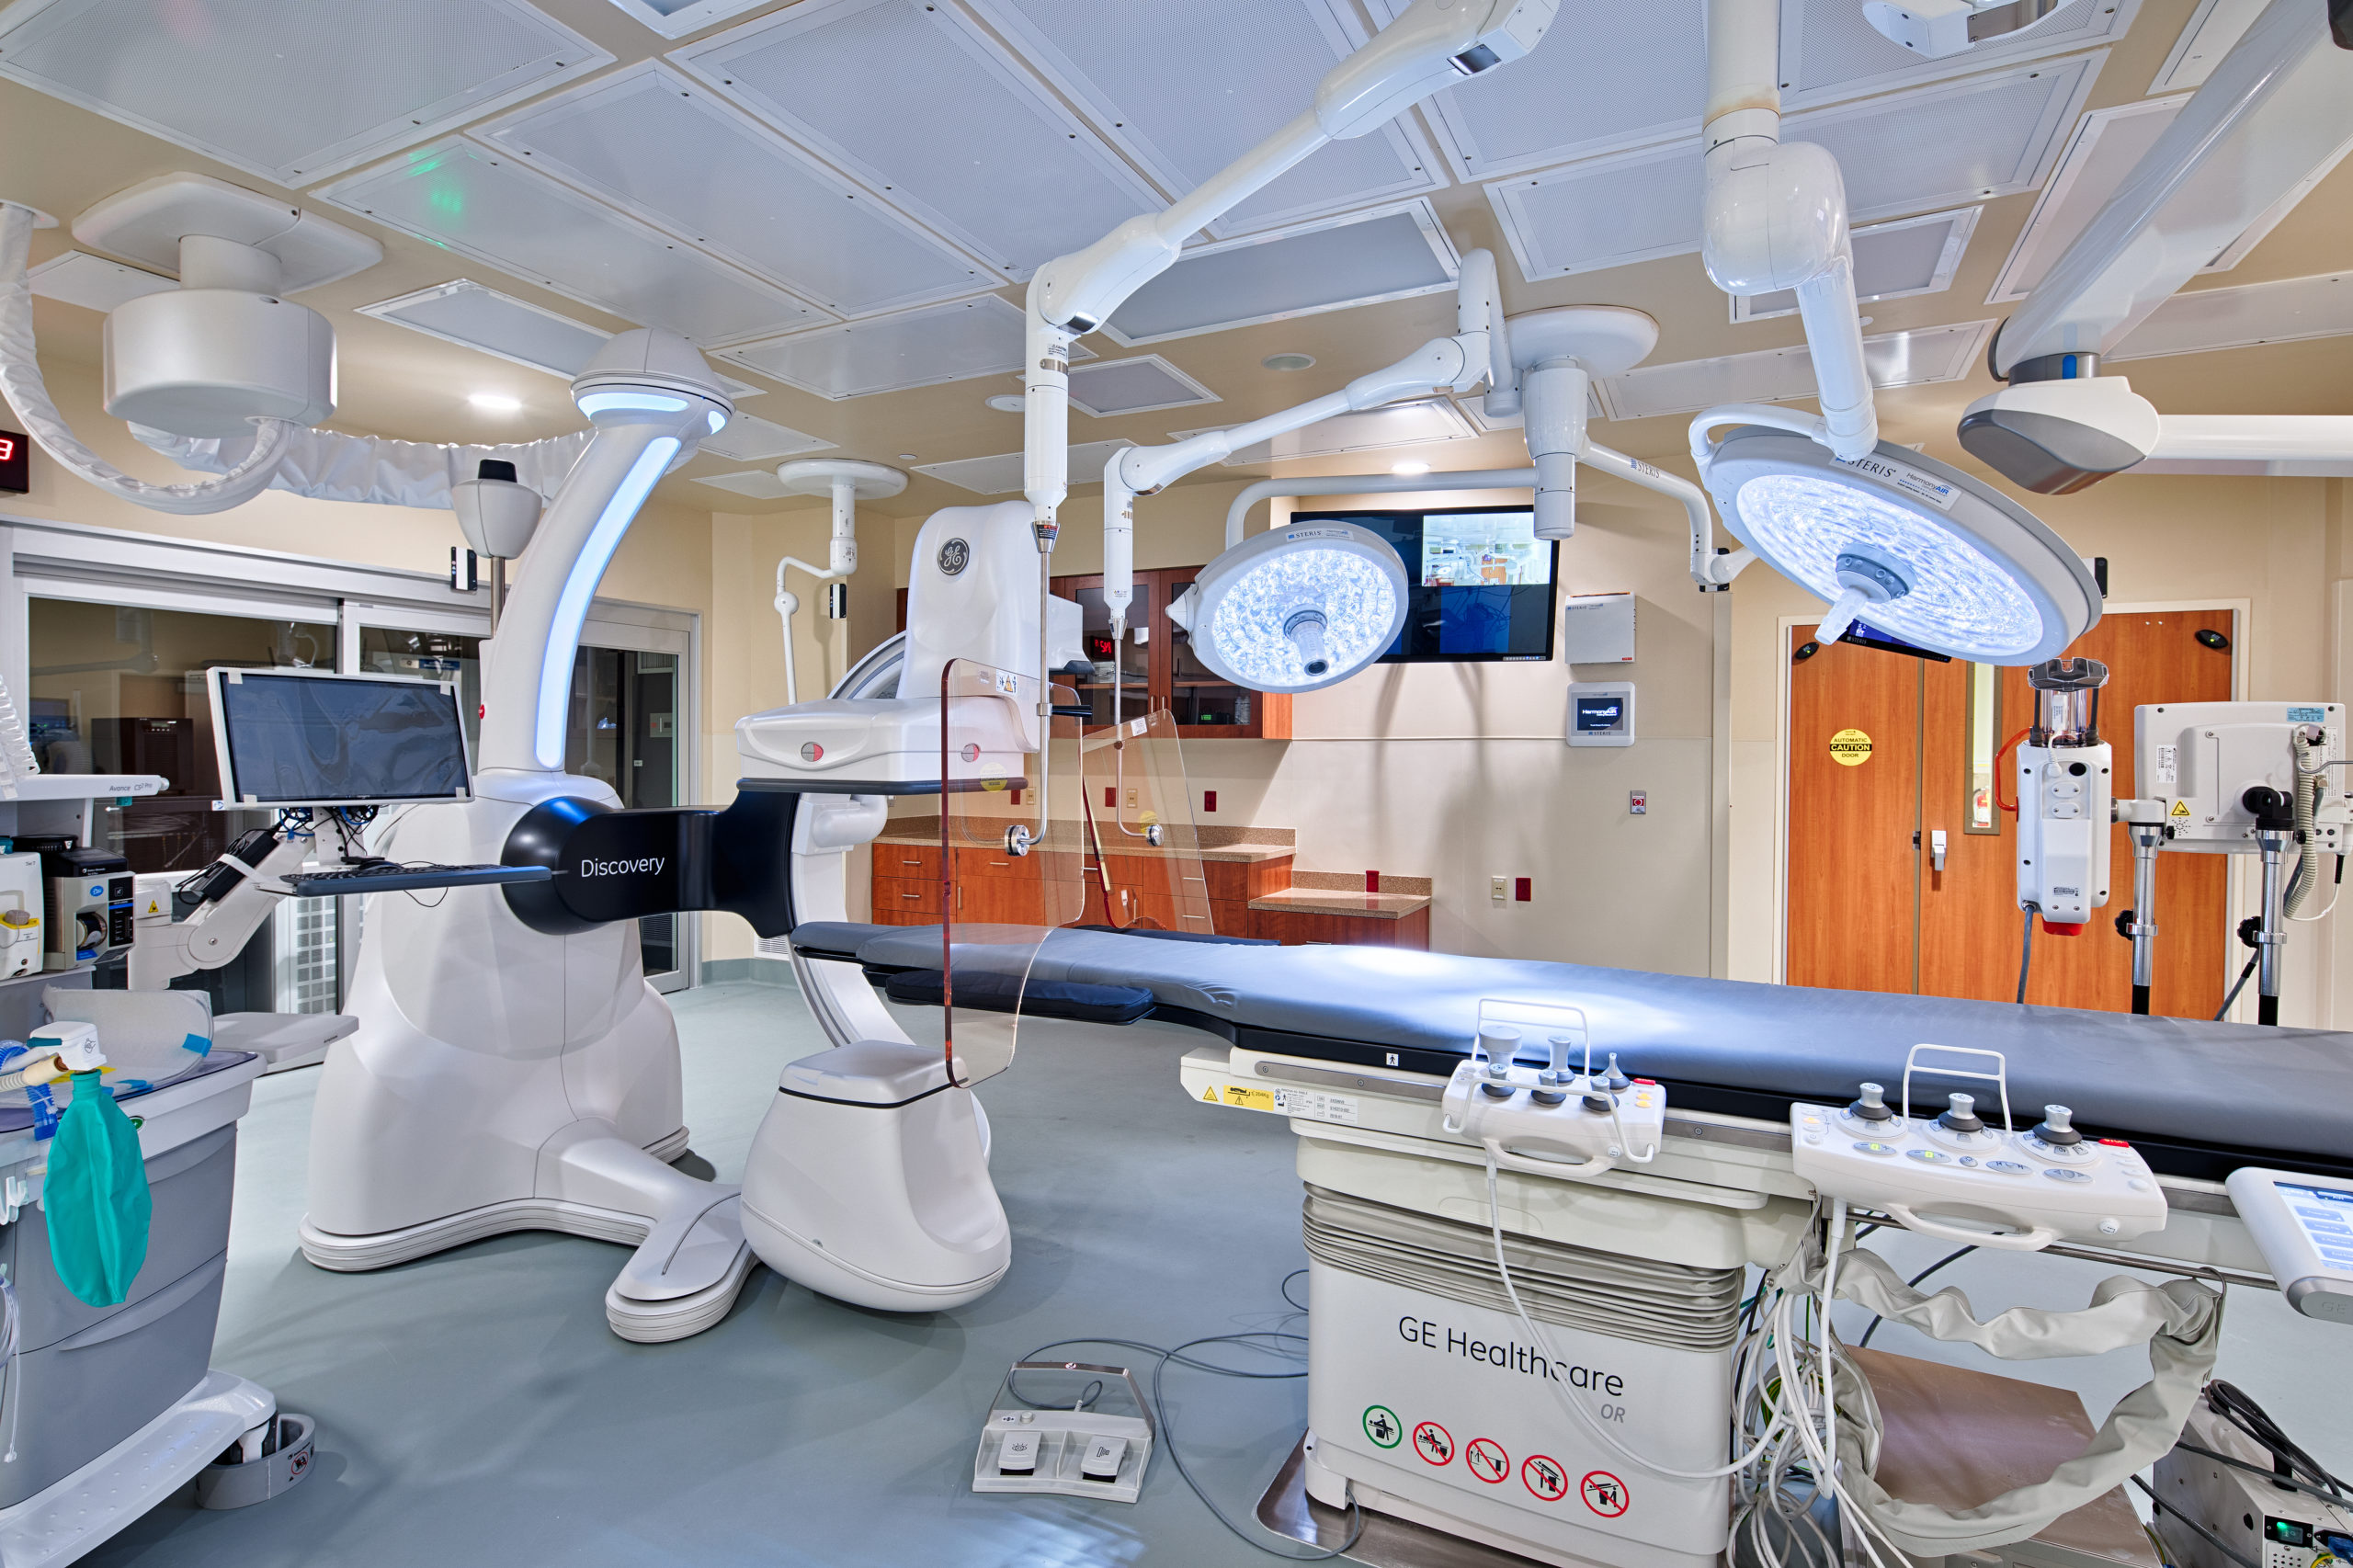TV: (1289, 504, 1555, 663)
bedside_monitor: (201, 667, 476, 815)
cabinet: (896, 577, 1288, 747)
counter: (855, 833, 1447, 980)
countertop: (878, 814, 1265, 859)
door_handle: (1923, 835, 1958, 884)
handle: (1183, 875, 1209, 882), (904, 857, 924, 866), (1183, 913, 1205, 920), (1079, 864, 1100, 871), (957, 886, 964, 906), (988, 861, 1013, 866), (901, 893, 924, 898)
keyboard: (280, 856, 553, 898)
operating_bed: (798, 913, 2353, 1568)
surgical_light: (1688, 401, 2101, 672), (1183, 520, 1410, 698)
ventilator: (5, 472, 310, 1557)
